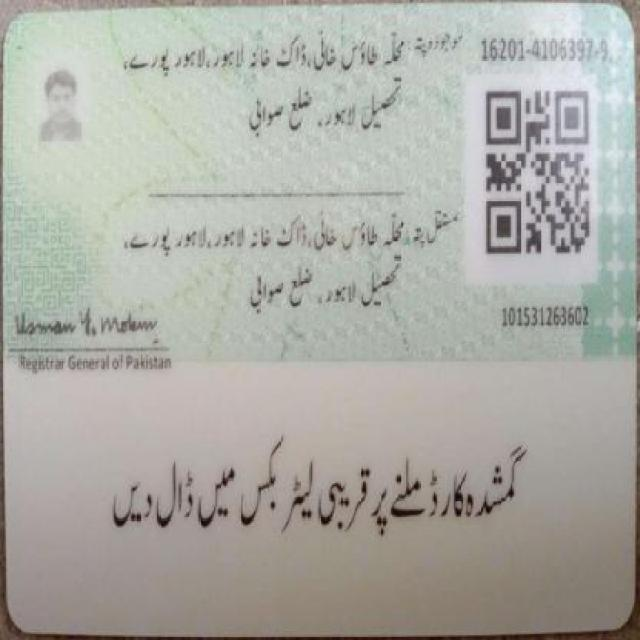Back: (3, 5, 631, 623)
